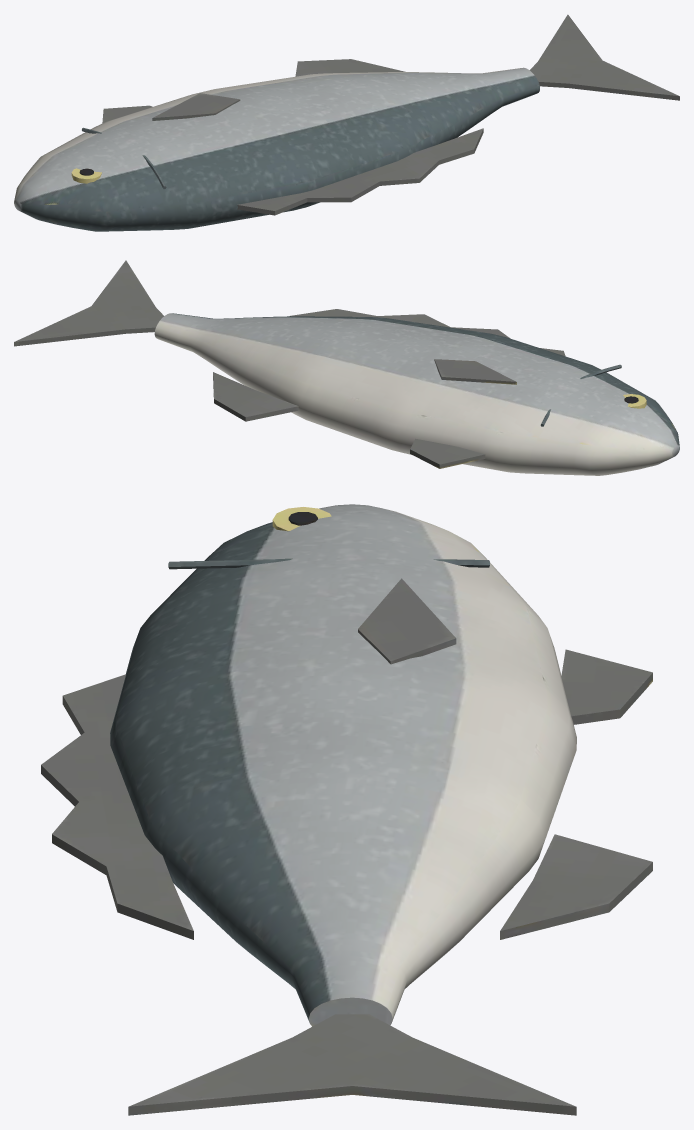
Rendered from peixe_cru.glb.
3 renders of one model, top to bottom at view 1: azimuth 30°, elevation 25°; view 2: azimuth 150°, elevation 25°; view 3: azimuth 270°, elevation 25°, orthographic. The views are drawn at different scales.
Parts seen in each view (by area): view 1: corpo, nadadeiras, olho; view 2: corpo, nadadeiras, olho; view 3: corpo, nadadeiras, olho.
Boxes of the visible parts, x1,y1,x2,y2 form: corpo: (14,67,539,231); nadadeiras: (102,14,679,215); olho: (71,127,166,188); corpo: (154,313,679,475); nadadeiras: (14,260,565,468); olho: (540,364,646,426); corpo: (110,504,576,1026); nadadeiras: (41,578,652,1115); olho: (168,507,489,569).
Bounding box in the file's own units: 0.256 × 0.034 × 0.112.
1 material, 1 textured.
